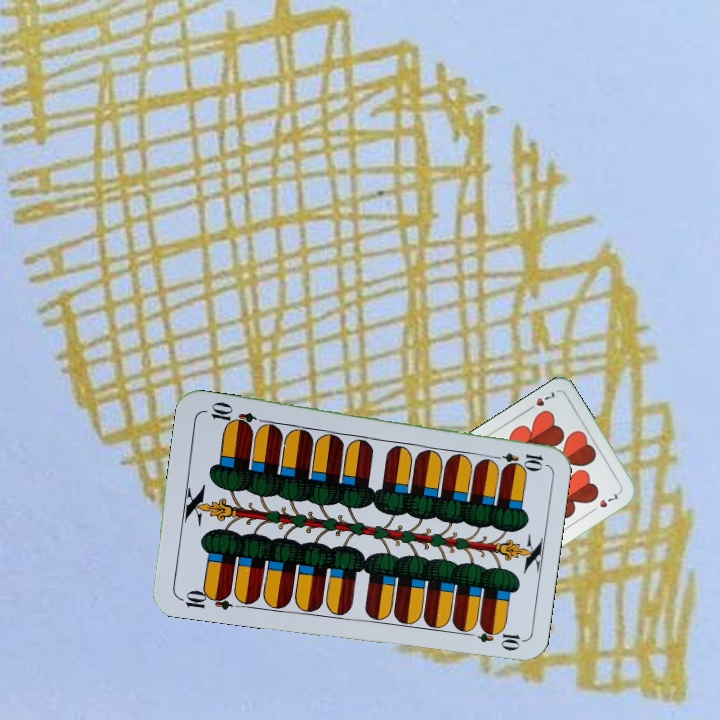E10: (175, 585, 234, 612), (486, 448, 545, 470)
H7: (522, 387, 557, 414)
